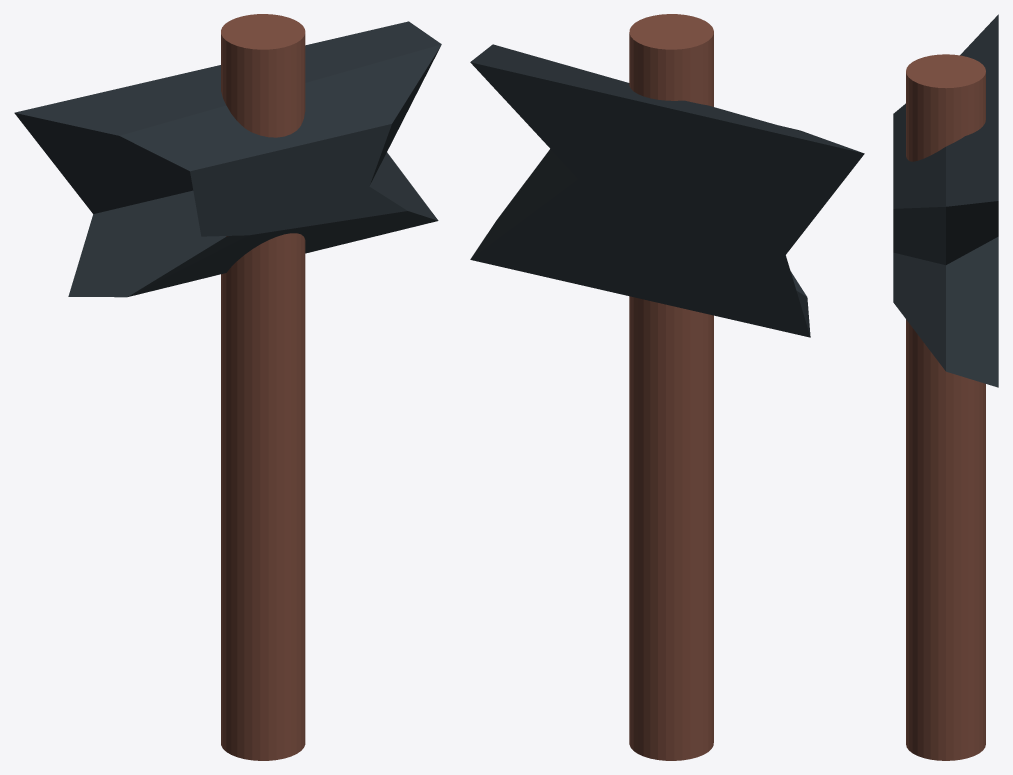
File: martillo roto.glb
3 renders of one model, left to right at view 1: azimuth 30°, elevation 25°; view 2: azimuth 150°, elevation 25°; view 3: azimuth 270°, elevation 25°, orthographic. The views are drawn at different scales.
Parts seen in each view (by area): view 1: Cube, Cylinder; view 2: Cube, Cylinder; view 3: Cylinder, Cube.
Part boxes in pixels (<box>): Cube: <box>14,21,441,297</box>; Cylinder: <box>221,14,305,760</box>; Cube: <box>470,44,864,337</box>; Cylinder: <box>629,14,713,760</box>; Cylinder: <box>906,54,985,760</box>; Cube: <box>893,14,998,387</box>.
Size of the model in its own units: 3.49 by 5.93 by 0.843.
